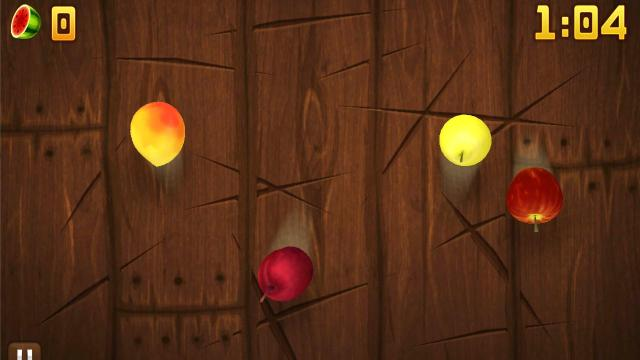fruit: (247, 242, 317, 308), (126, 97, 186, 171), (434, 106, 494, 172), (503, 166, 567, 226)
